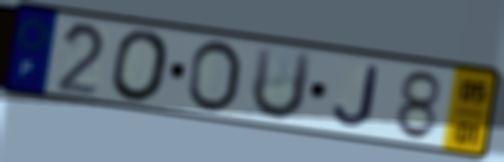2: (52, 20, 111, 98)
8: (395, 69, 444, 142)
J: (331, 63, 382, 130)
O: (109, 28, 173, 105), (183, 38, 244, 115)
U: (248, 44, 316, 123)
